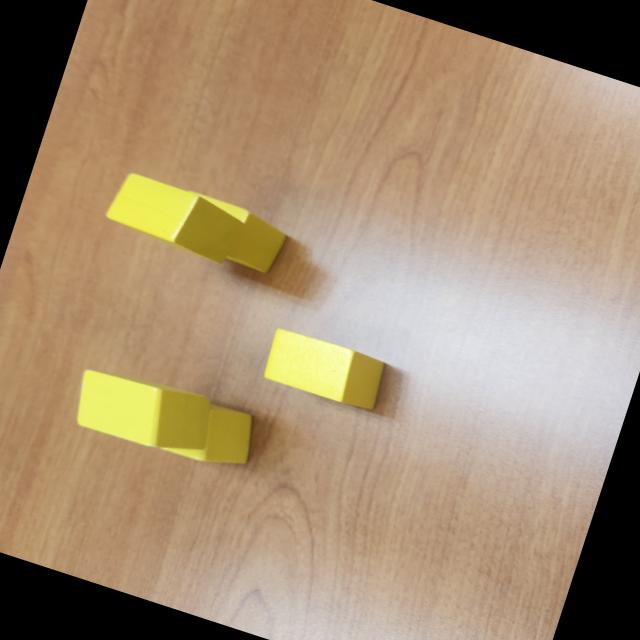yellow: (66, 358, 222, 467), (100, 168, 250, 268), (256, 324, 392, 416), (168, 190, 294, 283), (150, 387, 264, 477)
